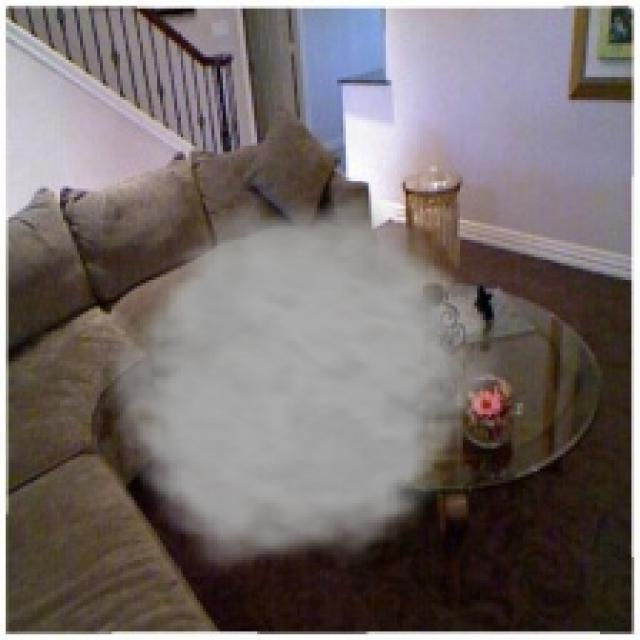Smoke: (94, 191, 509, 583)
